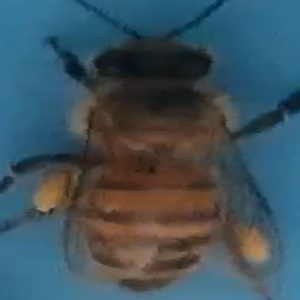bee: (13, 11, 295, 300)
